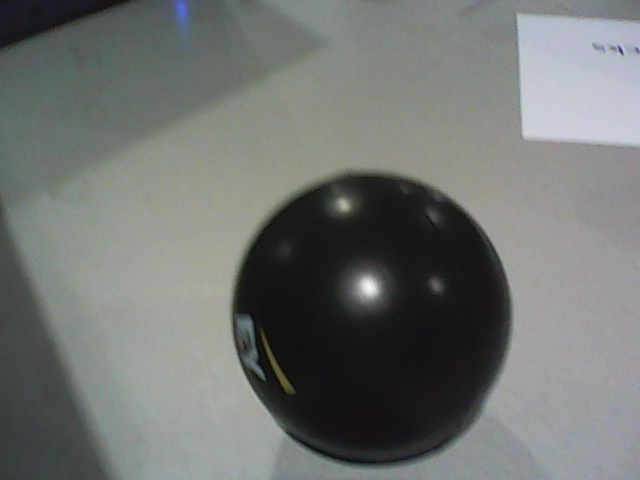ball: (232, 176, 513, 464)
